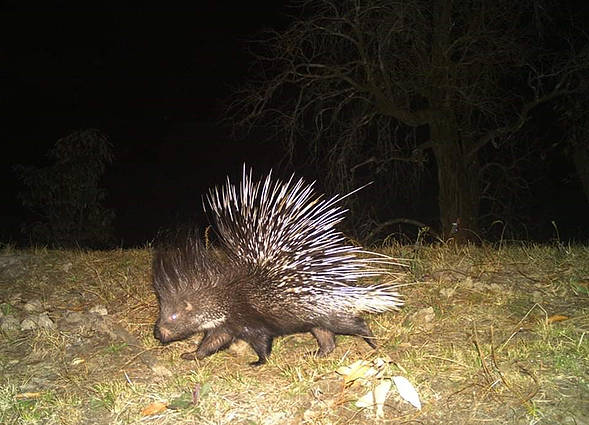porcupine: (127, 160, 426, 373)
